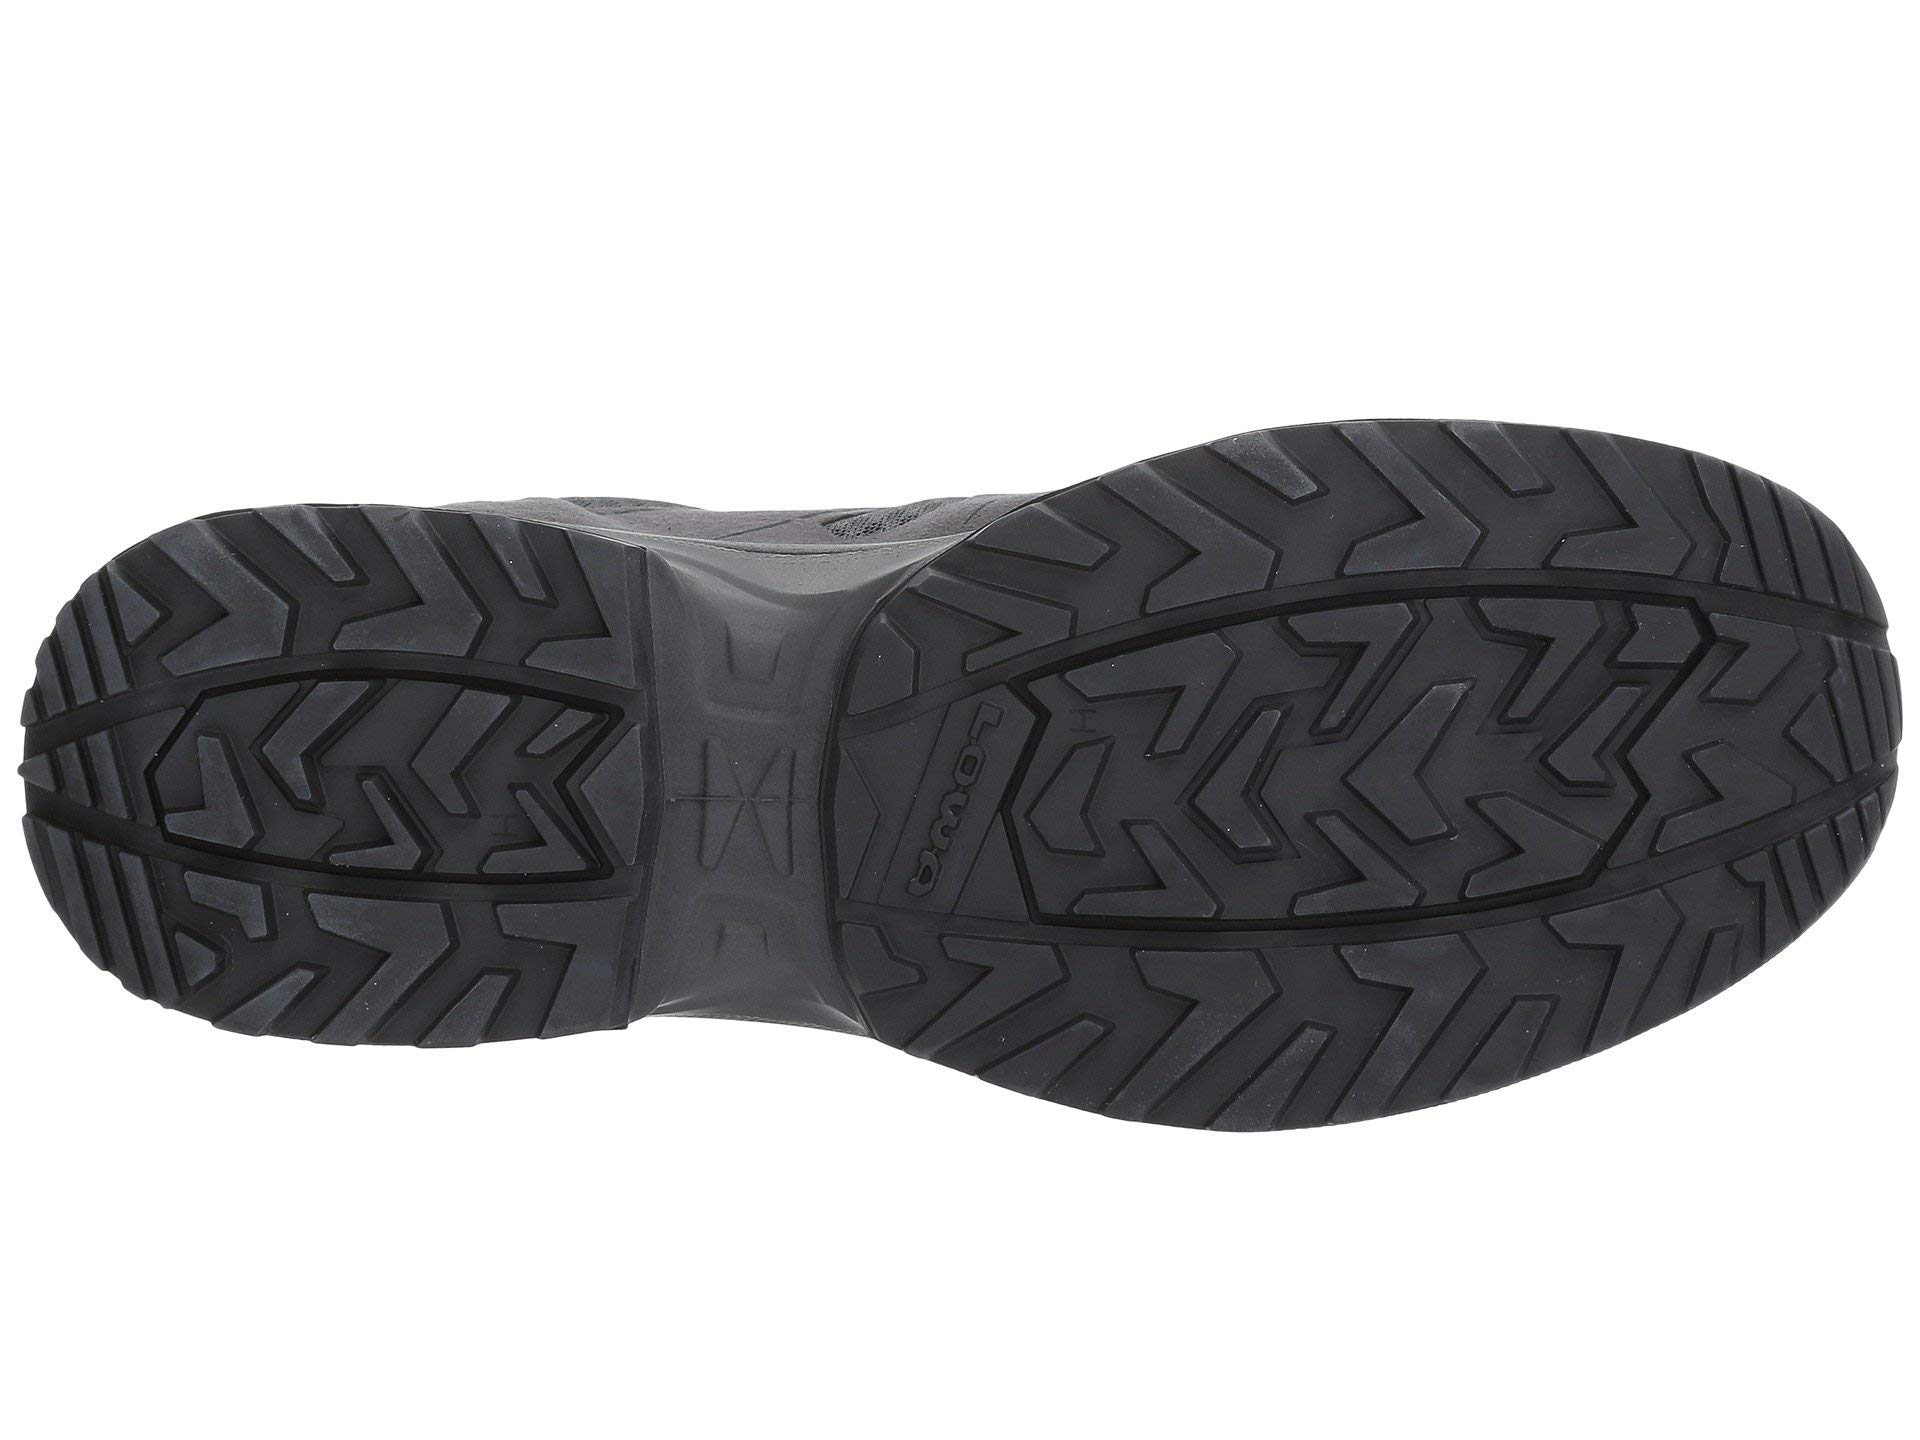chevron: (1085, 483, 1858, 965), (54, 560, 602, 1001)
circle: (903, 647, 1052, 930)
line: (1085, 483, 1858, 965), (54, 560, 602, 1001)
polygon: (903, 647, 1052, 930)
quad: (54, 560, 602, 1001), (650, 588, 818, 1024)
text: (903, 647, 1052, 930)
triangle: (1085, 483, 1858, 965), (54, 560, 602, 1001), (650, 588, 818, 1024)
